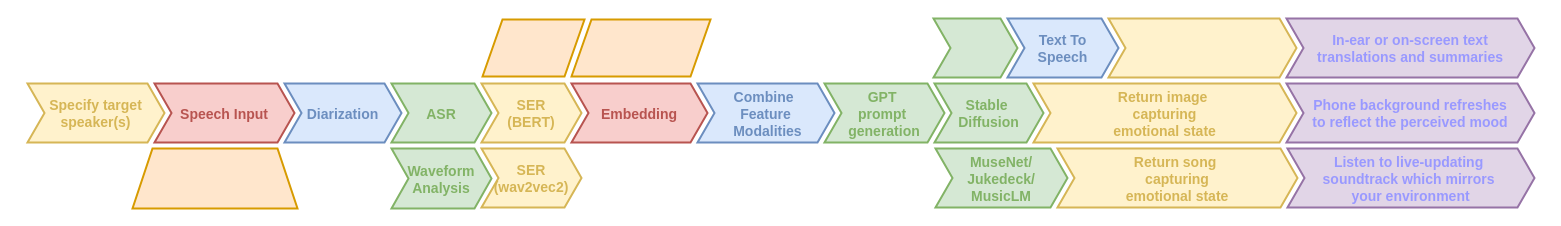
Image size: 1561x226. Some labels were removed from this diagram. Each missing label, with the box of its shape:
Delete Audio: (481, 18, 585, 77)
GPT: (932, 17, 1018, 78)
Insert to vector DB: (570, 18, 711, 77)
Passive Listening: (131, 147, 298, 209)
Return summary or detailed explana- tion of emotional state: (1107, 17, 1297, 78)
